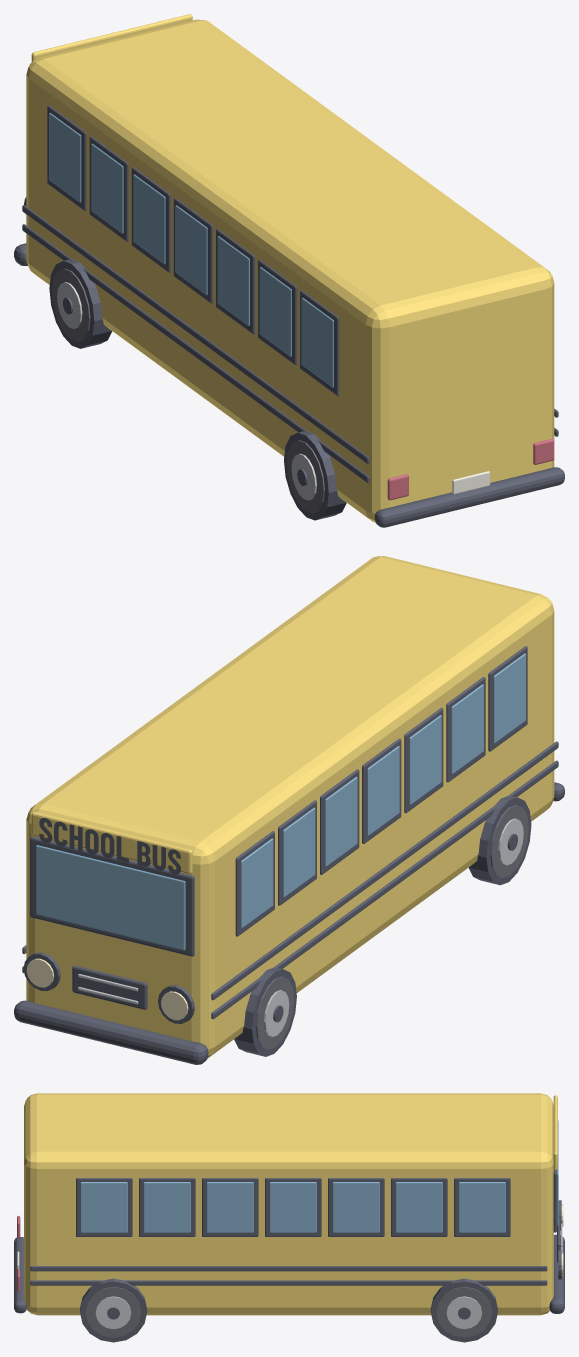
File: school-bus.glb
3 renders of one model, top to bottom at view 1: azimuth 30°, elevation 25°; view 2: azimuth 150°, elevation 25°; view 3: azimuth 270°, elevation 25°, orthographic. The views are drawn at different scales.
Visible parts, largest first — view 1: Bus_body, Rear_bumper, Bus_band, Bus_band.001, Bus_glass, Bus_glass.001, Bus_glass.002, Bus_glass.003, Bus_glass.006, Bus_glass.005, Bus_glass.004, Rubber_tire.002 (+13 smaller); view 2: Bus_body, Front_bus_glass_inner, Front_bumper, Bus_band, Front_bus_glass, Destination_panel, Bus_band.001, Bus_glass, Bus_glass.005, Bus_glass.006, Bus_glass.001, Bus_glass.002 (+19 smaller); view 3: Bus_body, Bus_band.002, Bus_band.003, Bus_glass.011, Bus_glass.012, Bus_glass.013, Bus_glass.008, Bus_glass.009, Bus_glass.010, Bus_glass.007, Wheel_sidewall.001, Wheel_sidewall.003 (+14 smaller).
Boxes of the visible parts, box(x1,y1,x2,y2) form: Bus_body: box(26, 19, 554, 522); Rear_bumper: box(374, 467, 564, 527); Bus_band: box(22, 205, 369, 463); Bus_band.001: box(22, 224, 369, 482); Bus_glass: box(49, 113, 81, 202); Bus_glass.001: box(91, 143, 123, 233); Bus_glass.002: box(133, 174, 165, 264); Bus_glass.003: box(175, 205, 207, 295); Bus_glass.006: box(301, 297, 333, 387); Bus_glass.005: box(259, 267, 291, 356); Bus_glass.004: box(217, 236, 249, 325); Rubber_tire.002: box(284, 431, 346, 520); Bus_body: box(26, 556, 554, 1058); Front_bus_glass_inner: box(36, 845, 185, 950); Front_bumper: box(14, 1000, 208, 1064); Bus_band: box(211, 741, 558, 1000); Front_bus_glass: box(30, 836, 194, 956); Destination_panel: box(31, 811, 192, 874); Bus_band.001: box(211, 760, 558, 1019); Bus_glass: box(241, 838, 273, 928); Bus_glass.005: box(451, 684, 483, 774); Bus_glass.006: box(493, 653, 525, 743); Bus_glass.001: box(283, 807, 315, 897); Bus_glass.002: box(325, 776, 357, 866); Bus_body: box(24, 1093, 553, 1315); Bus_band.002: box(30, 1266, 547, 1271); Bus_band.003: box(30, 1280, 547, 1285); Bus_glass.011: box(206, 1182, 253, 1232); Bus_glass.012: box(143, 1182, 190, 1232); Bus_glass.013: box(80, 1182, 127, 1232); Bus_glass.008: box(395, 1182, 442, 1232); Bus_glass.009: box(332, 1182, 379, 1232); Bus_glass.010: box(269, 1182, 316, 1232); Bus_glass.007: box(458, 1182, 505, 1232); Wheel_sidewall.001: box(436, 1286, 492, 1337); Wheel_sidewall.003: box(85, 1286, 141, 1337).
Bounding box in the file's own units: 2.56 × 2.81 × 7.69.
